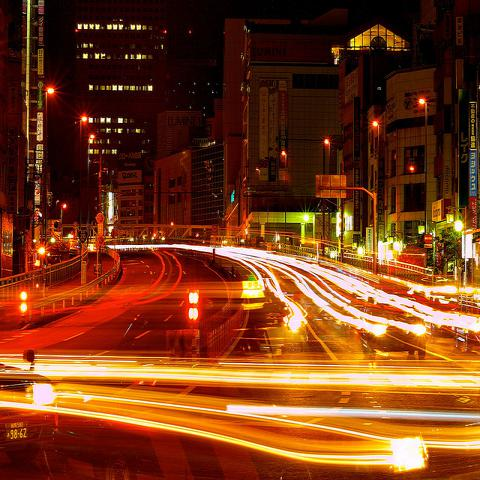car: (0, 350, 61, 468), (356, 296, 428, 362), (252, 302, 308, 352), (454, 307, 479, 354)
